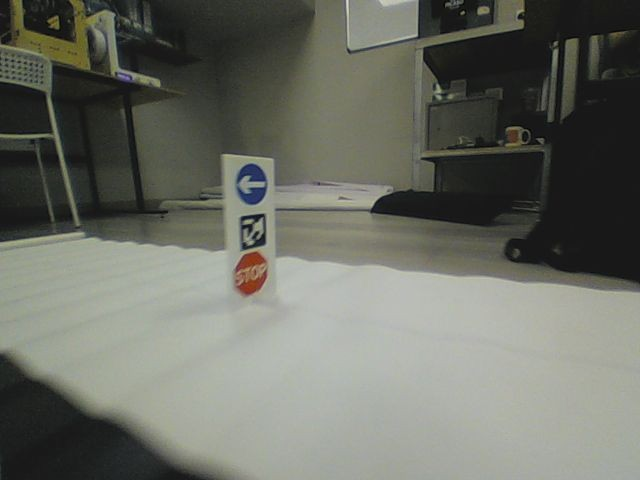Stop: (231, 251, 269, 296)
